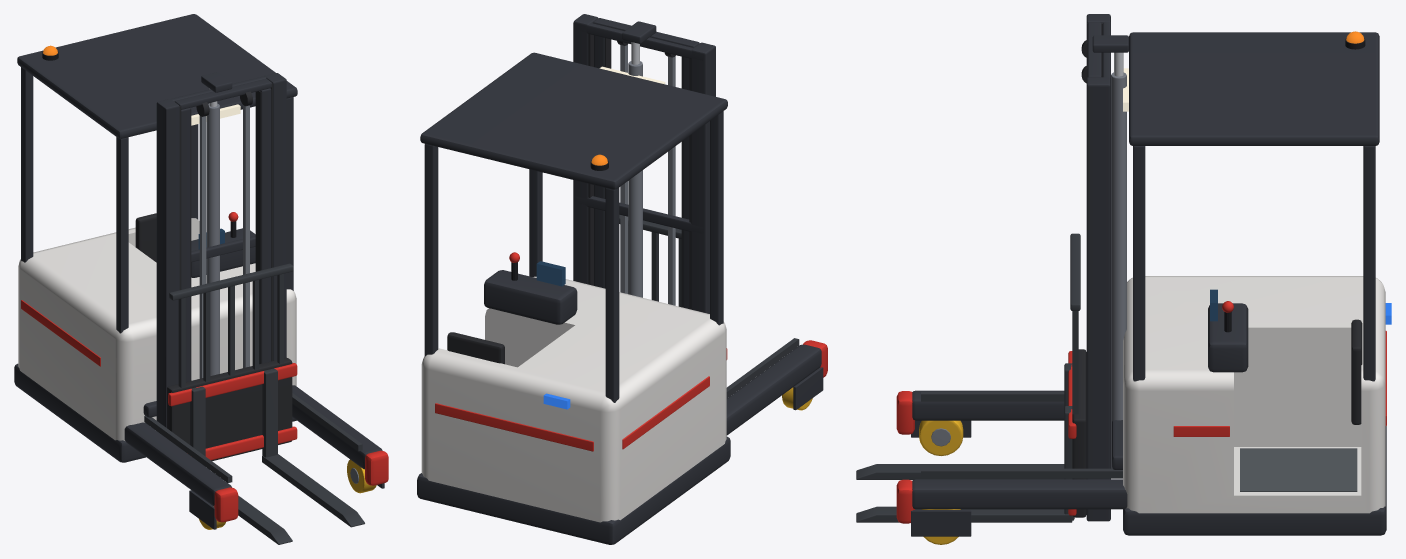
File: reach_truck.glb
3 views of the same model, side by side, from view 1: azimuth 30°, elevation 25°; view 2: azimuth 150°, elevation 25°; view 3: azimuth 270°, elevation 25° (orthographic). The views are drawn at different scales.
Visible parts, largest first — view 1: body_geo, fork_carriage_geo, mast_outer_geo, mast_inner_geo, wheel_LL_geo; view 2: body_geo, mast_outer_geo, mast_inner_geo, fork_carriage_geo; view 3: body_geo, mast_outer_geo, fork_carriage_geo, mast_inner_geo, wheel_LR_geo.
Part boxes in pixels (x1=…): body_geo: x1=14, y1=14, x2=388, y2=529; fork_carriage_geo: x1=167, y1=263, x2=364, y2=544; mast_outer_geo: x1=156, y1=73, x2=286, y2=427; mast_inner_geo: x1=175, y1=72, x2=271, y2=381; wheel_LL_geo: x1=347, y1=459, x2=376, y2=493; body_geo: x1=417, y1=52, x2=827, y2=544; mast_outer_geo: x1=573, y1=14, x2=715, y2=313; mast_inner_geo: x1=593, y1=18, x2=699, y2=308; fork_carriage_geo: x1=619, y1=214, x2=727, y2=359; body_geo: x1=896, y1=32, x2=1391, y2=536; mast_outer_geo: x1=1086, y1=14, x2=1126, y2=521; fork_carriage_geo: x1=856, y1=233, x2=1086, y2=522; mast_inner_geo: x1=1081, y1=22, x2=1128, y2=83; wheel_LR_geo: x1=919, y1=420, x2=963, y2=455.
Size of the model in its own units: 1.25 by 2.5 by 2.65.
2 materials, 2 textured.
